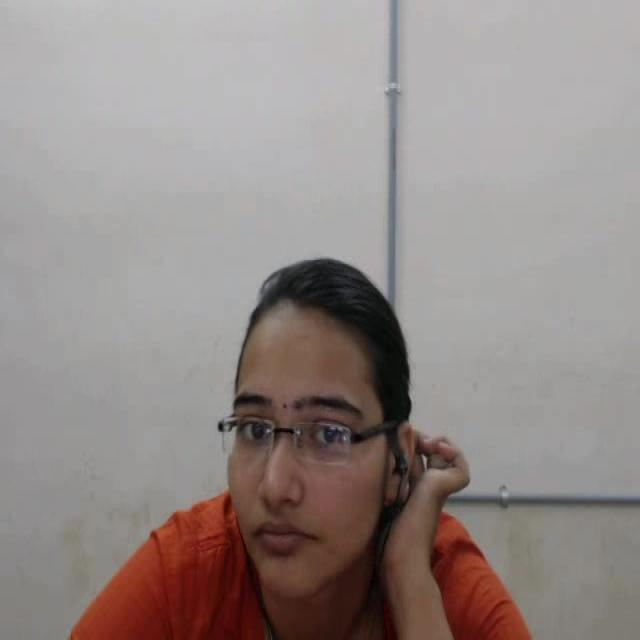Bored: (195, 249, 468, 626)
